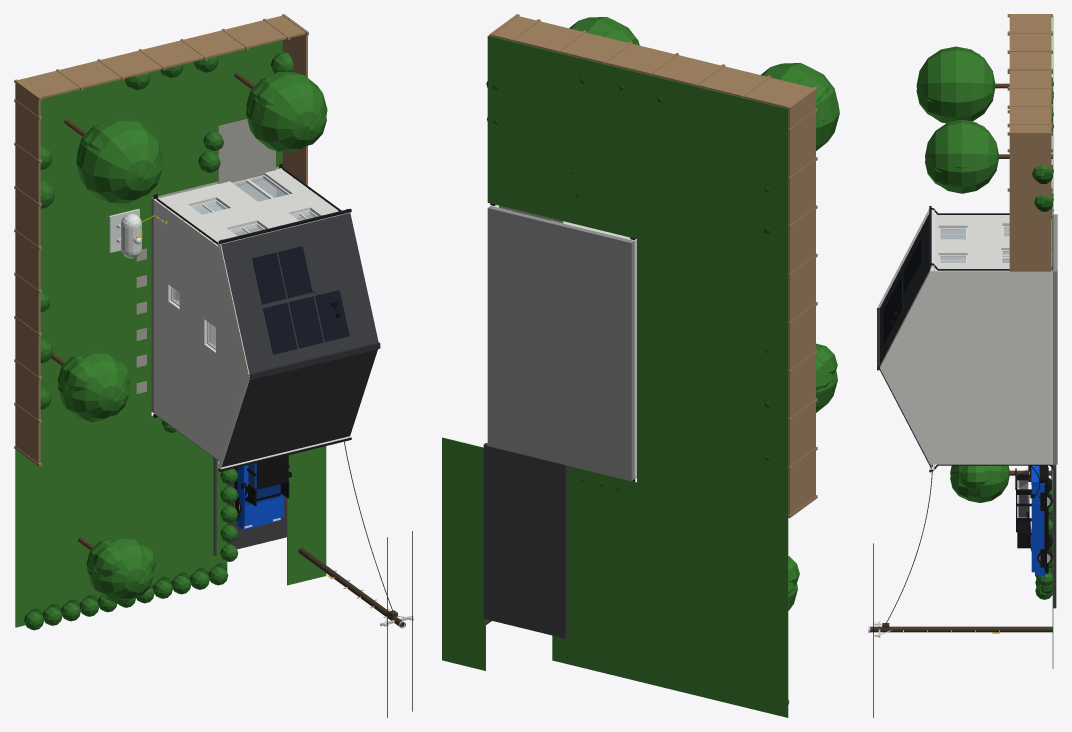
File: Taylor_Wimpey_Blair.obj
The picture shows the model from 3 angles, left to right: view 1: azimuth 30°, elevation 25°; view 2: azimuth 150°, elevation 25°; view 3: azimuth 270°, elevation 25°; orthographic projection. The views are drawn at different scales.
Parts seen in each view (by area): view 1: Landscape_Grass, Exterior_Walls, Roof_Main, Landscape_Trees_Foliage, Landscape_Fencing, Landscape_Bushes, Roof_Solar_Panels, Landscape_Paving, Car_Peugeot_e2008_Body, Driveway, Car_Peugeot_e2008_Trim, Rainwater_Gutters (+7 smaller); view 2: Landscape_Grass, Ground_Floor_Slab, Landscape_Fencing, Driveway, Landscape_Trees_Foliage, Exterior_Walls; view 3: Separating_Party_Wall, Landscape_Trees_Foliage, Landscape_Fencing, Exterior_Walls, Roof_Main, Car_Peugeot_e2008_Trim, Utility_Pylon_Grid, Car_Peugeot_e2008_Body, Ground_Floor_Slab, Roof_Solar_Panels, Landscape_Bushes, Landscape_Grass (+7 smaller).
Part boxes in pixels (x1,y1,x2,y2): Landscape_Grass: [15, 40, 326, 627]; Exterior_Walls: [153, 169, 334, 461]; Roof_Main: [221, 213, 378, 467]; Landscape_Trees_Foliage: [57, 71, 327, 604]; Landscape_Fencing: [14, 14, 308, 466]; Landscape_Bushes: [24, 52, 293, 630]; Roof_Solar_Panels: [252, 246, 349, 354]; Landscape_Paving: [136, 119, 275, 393]; Car_Peugeot_e2008_Body: [237, 463, 283, 529]; Driveway: [213, 458, 287, 555]; Car_Peugeot_e2008_Trim: [234, 455, 291, 520]; Rainwater_Gutters: [153, 163, 351, 471]; Landscape_Grass: [442, 35, 788, 717]; Ground_Floor_Slab: [487, 206, 634, 480]; Landscape_Fencing: [489, 14, 817, 518]; Driveway: [483, 443, 567, 638]; Landscape_Trees_Foliage: [569, 17, 839, 610]; Exterior_Walls: [498, 207, 636, 478]; Separating_Party_Wall: [880, 268, 1052, 464]; Landscape_Trees_Foliage: [916, 46, 1009, 502]; Landscape_Fencing: [1007, 14, 1052, 271]; Exterior_Walls: [930, 214, 1051, 268]; Roof_Main: [880, 214, 931, 469]; Car_Peugeot_e2008_Trim: [1015, 465, 1048, 573]; Utility_Pylon_Grid: [870, 464, 1052, 632]; Car_Peugeot_e2008_Body: [1030, 465, 1045, 576]; Ground_Floor_Slab: [1053, 214, 1057, 464]; Roof_Solar_Panels: [883, 237, 922, 343]; Landscape_Bushes: [1032, 77, 1053, 599]; Landscape_Grass: [1052, 16, 1053, 668].
Size of the model in its own units: 13.56 by 26.26 by 7.88.
